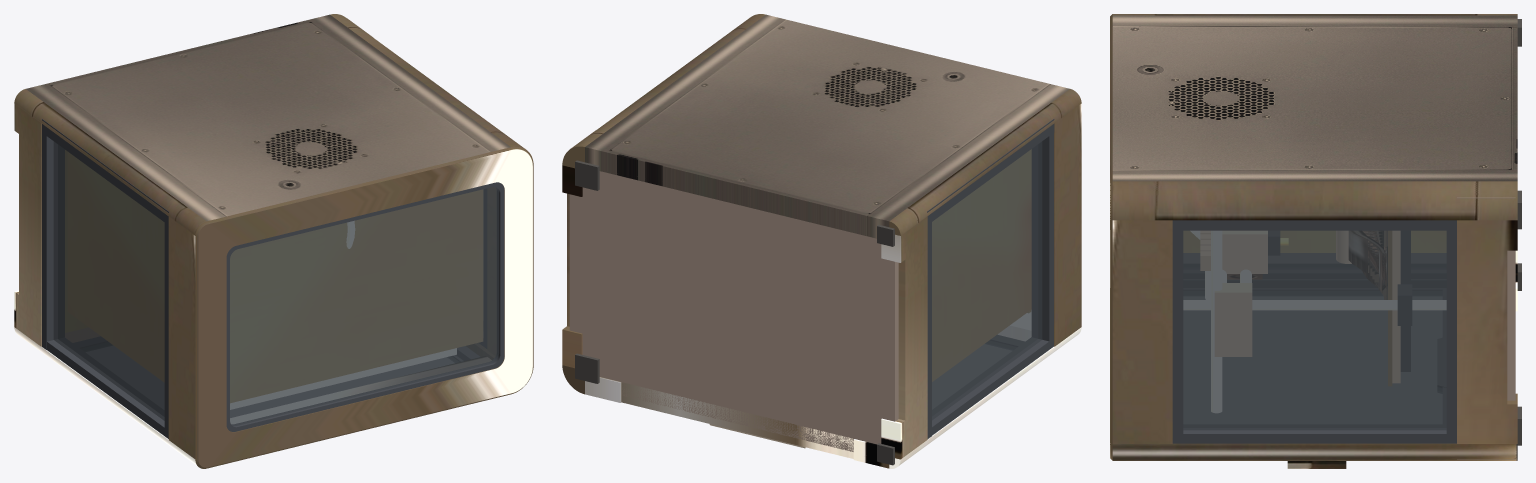
File: deltrol_p2s_asset_pivot_v4_rev1.glb
The picture shows the model from 3 angles, left to right: view 1: azimuth 30°, elevation 25°; view 2: azimuth 150°, elevation 25°; view 3: azimuth 270°, elevation 25°; orthographic projection. The views are drawn at different scales.
Parts seen in each view (by area): view 1: unibody_rear_wall, top_roof_glass, interior_ceiling_liner, unibody_top_frame, left_glass_window, interior_left_back_baffle, unibody_left_top_beam, top_rim_outer, unibody_left_skirt_band, left_gasket_bot, unibody_corner_1, front_glass_door (+9 smaller); view 2: chassis_recessed_plinth, unibody_rear_wall, left_glass_window, interior_left_back_baffle, unibody_left_top_beam, unibody_left_skirt_band, unibody_front_chin_main, left_gasket_top, unibody_corner_1, left_gasket_f, unibody_corner_0, front_glass_door (+9 smaller); view 3: unibody_rear_wall, right_glass_window, front_glass_door, unibody_corner_0, unibody_right_top_beam, unibody_right_skirt_band, unibody_corner_3, right_gasket_f, right_gasket_r, x_slider_right, right_gasket_top, right_gasket_bot (+18 smaller).
Boxes of the visible parts, <box> form: unibody_rear_wall: <box>26,14,510,221</box>; top_roof_glass: <box>230,187,498,425</box>; interior_ceiling_liner: <box>230,190,482,402</box>; unibody_top_frame: <box>195,146,533,468</box>; left_glass_window: <box>53,142,164,420</box>; interior_left_back_baffle: <box>68,152,163,381</box>; unibody_left_top_beam: <box>168,217,195,458</box>; top_rim_outer: <box>226,182,504,431</box>; unibody_left_skirt_band: <box>19,107,41,346</box>; left_gasket_bot: <box>42,124,64,349</box>; unibody_corner_1: <box>14,89,206,235</box>; front_glass_door: <box>82,344,458,417</box>; chassis_recessed_plinth: <box>569,130,898,451</box>; unibody_rear_wall: <box>585,14,1069,238</box>; left_glass_window: <box>932,142,1042,420</box>; interior_left_back_baffle: <box>932,150,1030,381</box>; unibody_left_top_beam: <box>1054,104,1081,346</box>; unibody_left_skirt_band: <box>898,216,927,455</box>; unibody_front_chin_main: <box>621,382,853,458</box>; left_gasket_top: <box>1032,133,1053,349</box>; unibody_corner_1: <box>889,89,1081,235</box>; left_gasket_f: <box>932,337,1053,435</box>; unibody_corner_0: <box>562,14,765,168</box>; front_glass_door: <box>932,341,1015,408</box>; unibody_rear_wall: <box>1112,15,1517,181</box>; right_glass_window: <box>1183,230,1446,430</box>; front_glass_door: <box>1184,295,1441,423</box>; unibody_corner_0: <box>1112,181,1517,220</box>; unibody_right_top_beam: <box>1112,220,1172,443</box>; unibody_right_skirt_band: <box>1457,220,1507,443</box>; unibody_corner_3: <box>1112,443,1517,460</box>; right_gasket_f: <box>1172,425,1446,443</box>; right_gasket_r: <box>1172,220,1456,230</box>; x_slider_right: <box>1215,283,1251,356</box>; right_gasket_top: <box>1172,230,1183,443</box>; right_gasket_bot: <box>1446,220,1456,443</box>.
Bounding box in the file's own units: 0.418 × 0.3088 × 0.394.
28 materials, 17 textured.
